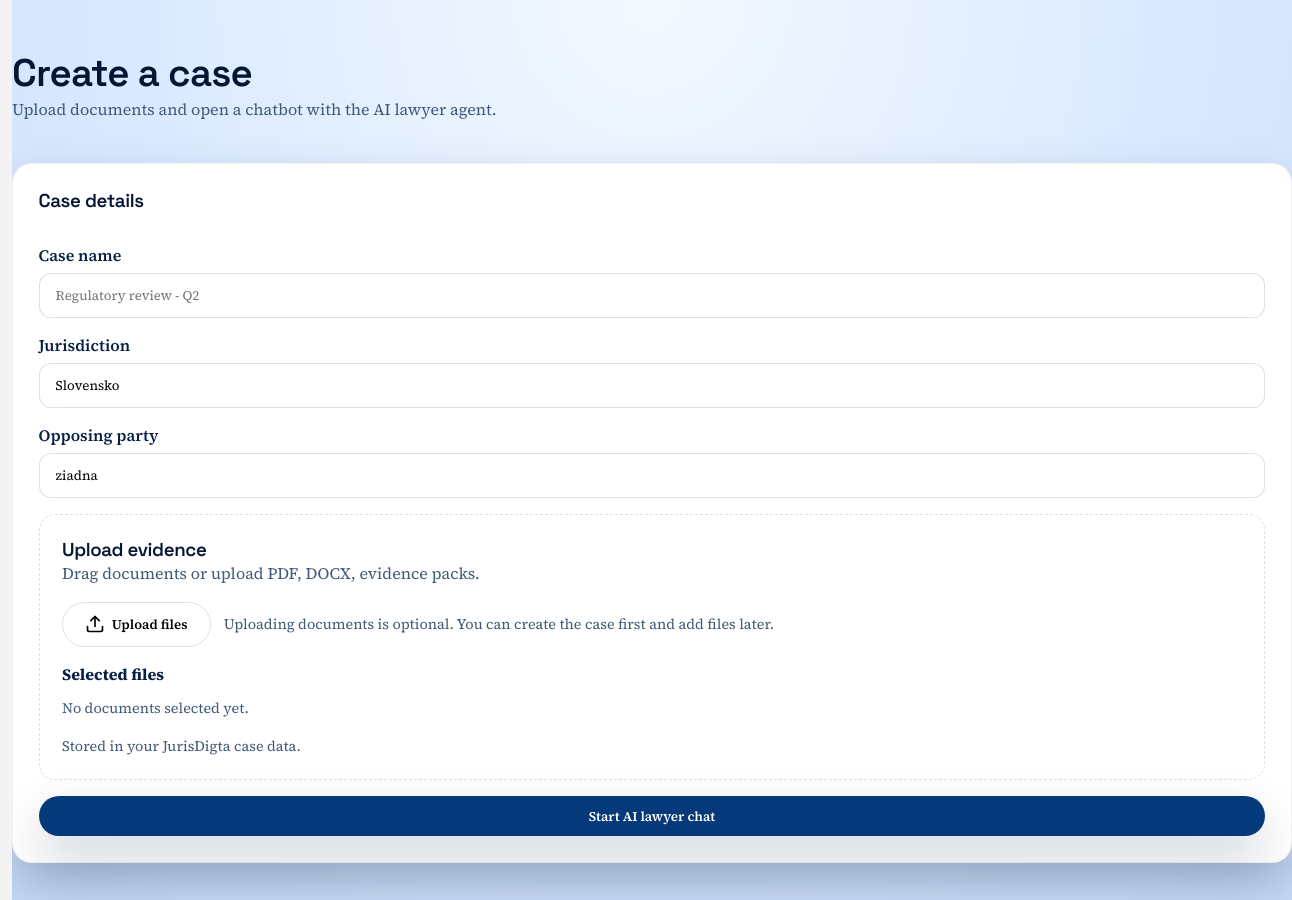
Test: Case intake page › shows validation errors when required fields are missing
Click the button "Start AI lawyer chat".
click(652, 816)  # box [39,796,1265,836]
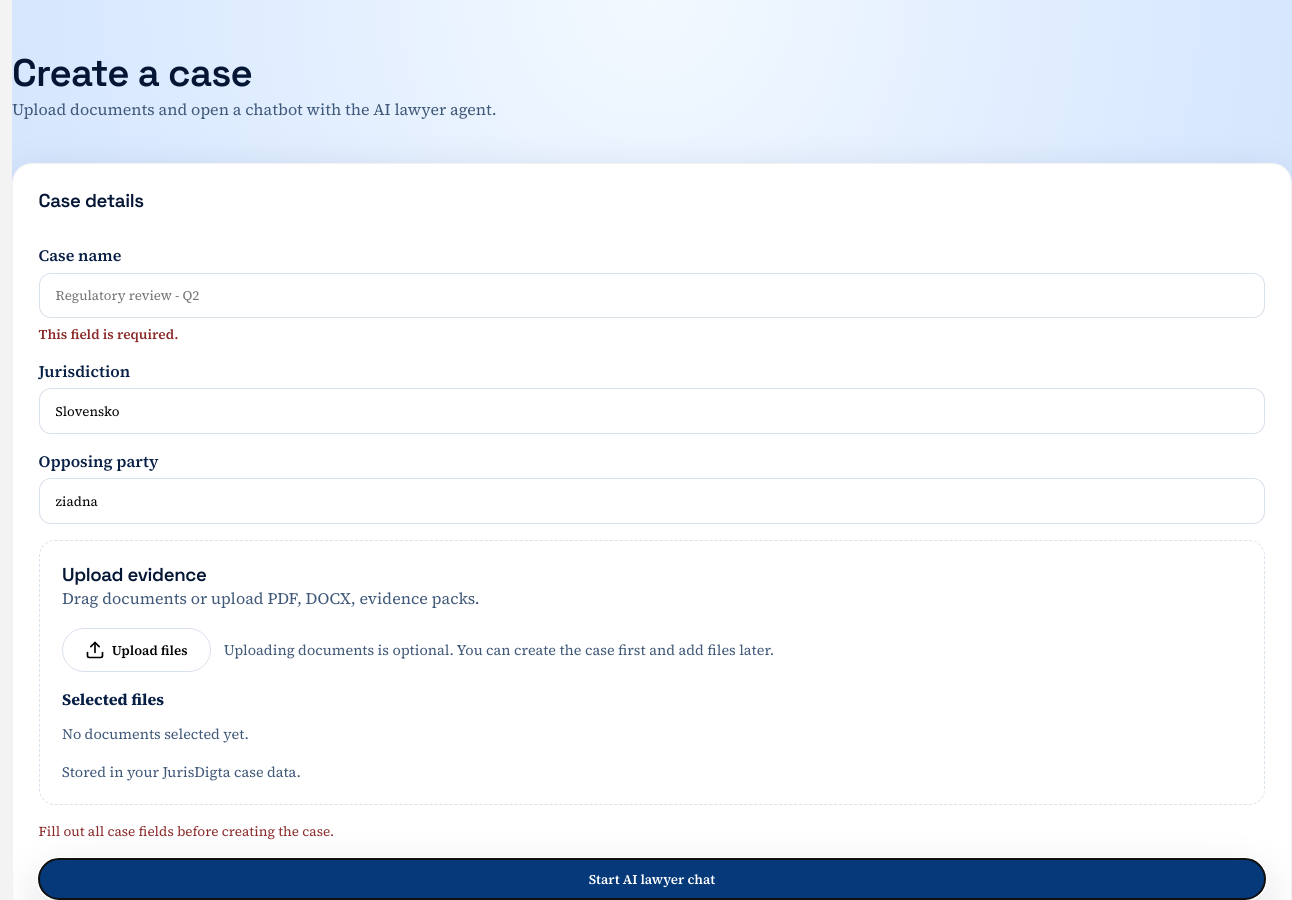
Expected: the text "This field is required." is shown once, [39,325,178,344]
Expected: the text "Fill out all case fields before creating the case." is shown, [39,822,334,841]
